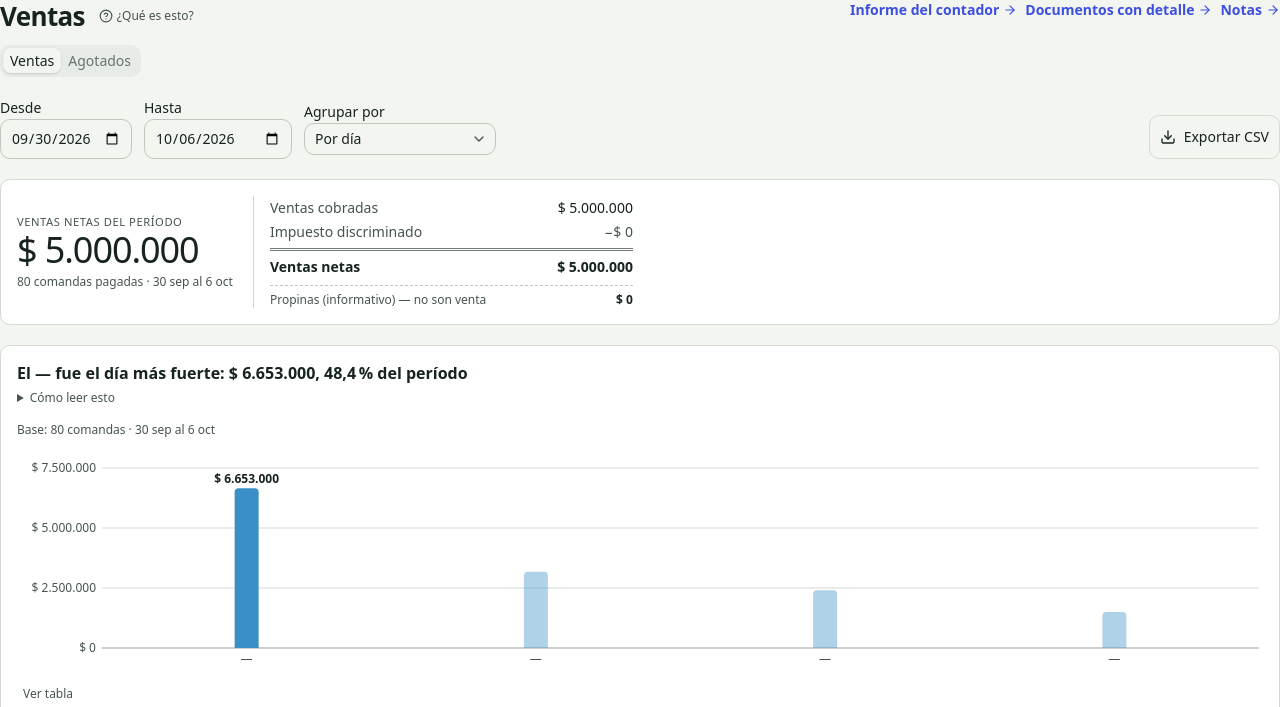
Test: SalesPage › por medio de pago: barra 100 % con la participación del servidor y los medios con mayúscula («Nequi»)
Expected: the text "Ventas netas del período" is shown, left=17, top=214, right=182, bottom=228
Step 1. Click the dropdown named "Agrupar por" → (400, 138), box left=304, top=122, right=496, bottom=154
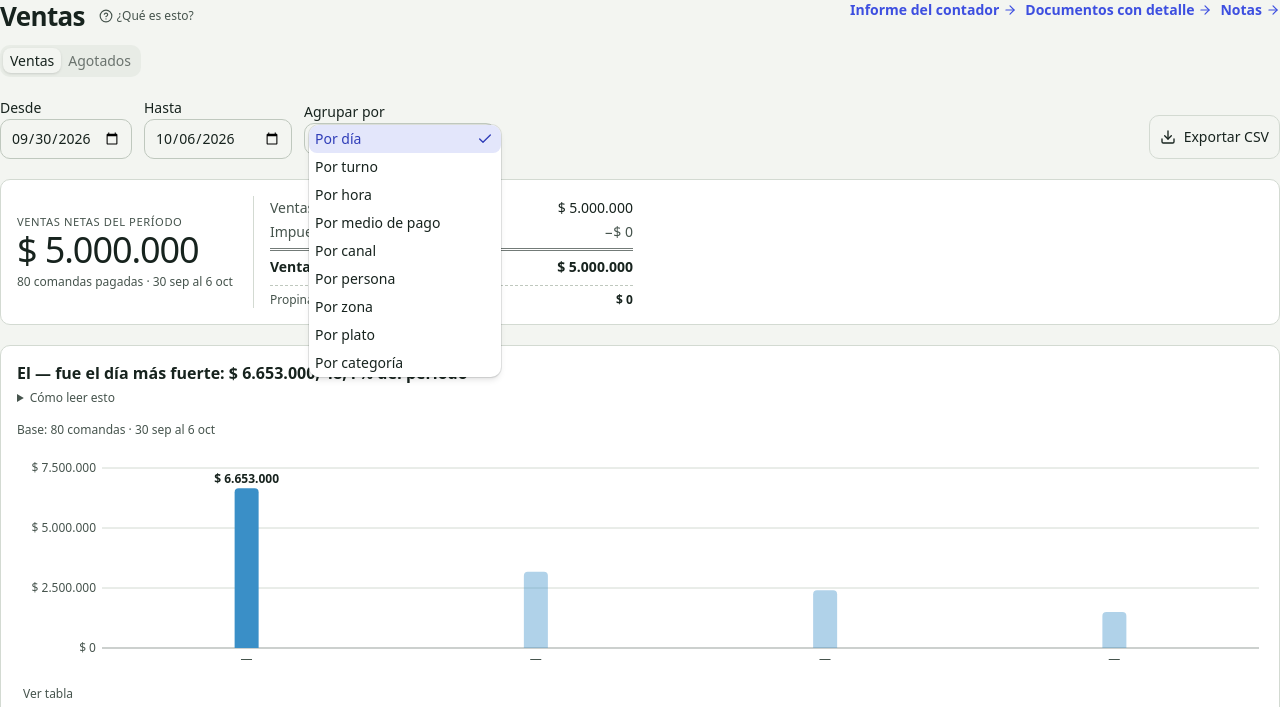
Step 2. Click the option "Por medio de pago" → (378, 222), box left=315, top=212, right=440, bottom=232
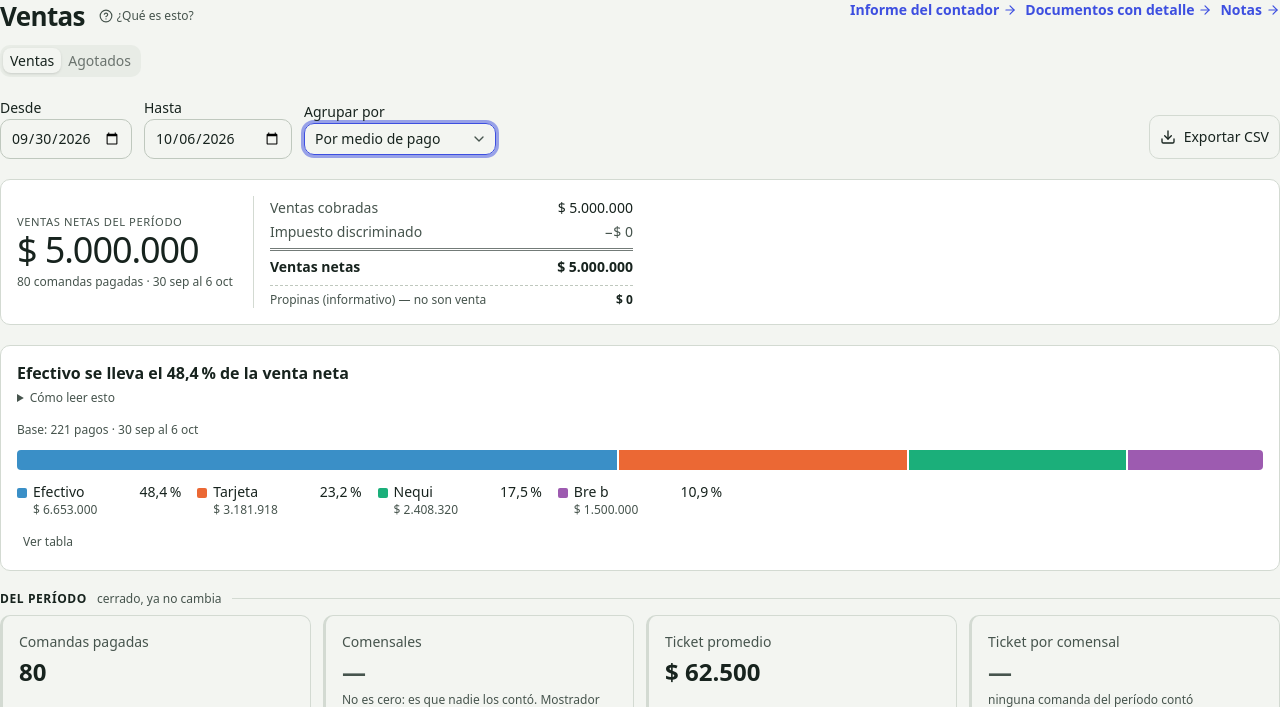
Expected: the text "Nequi" is shown, left=394, top=482, right=433, bottom=502
Expected: the text "Bre b" is shown, left=574, top=482, right=609, bottom=502
Expected: the text "Base: 221 pagos · 30 sep al 6 oct" is shown, left=17, top=420, right=198, bottom=438
